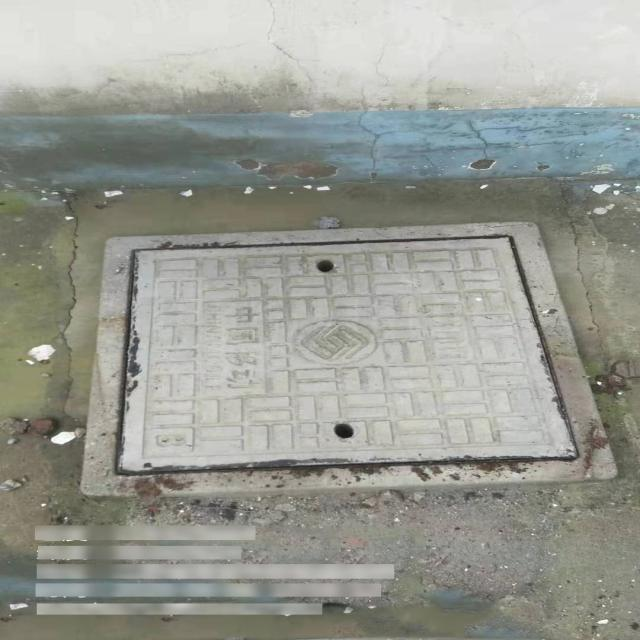Good: (78, 218, 616, 494)
